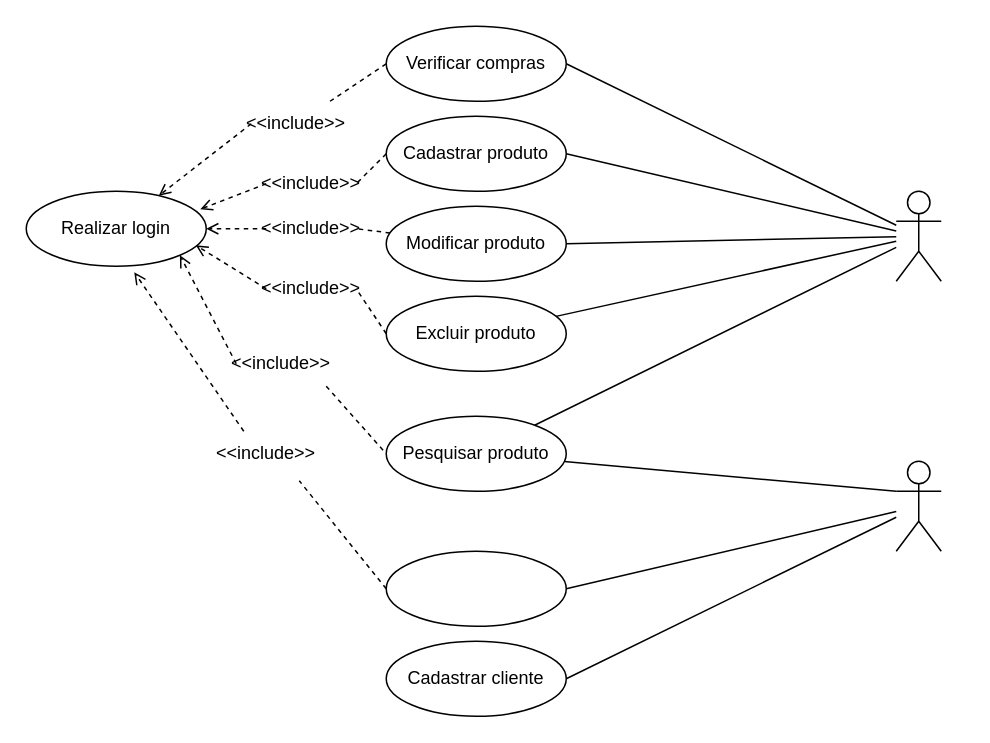
The diagram is 990 pixels wide and 743 high, and some of its shapes have lost their labels. Each missing label, with the centre of its shape:
"Cliente" belongs at point 918,505.
"Fornecedor" belongs at point 918,235.
"Realizar compra" belongs at point 475,588.
